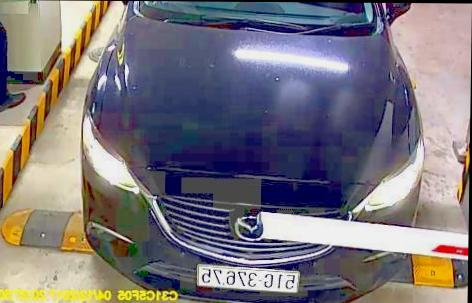License_Plate: (193, 263, 301, 290)
